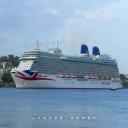cruises: (10, 39, 125, 92)
